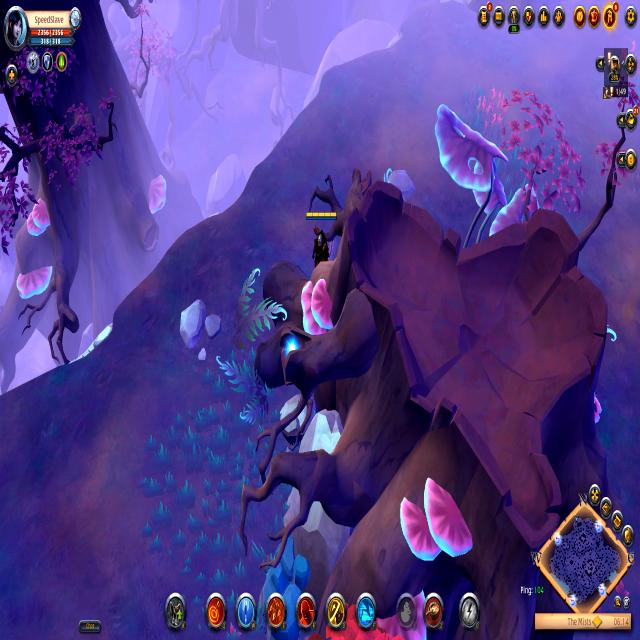red: (303, 205, 338, 276)
